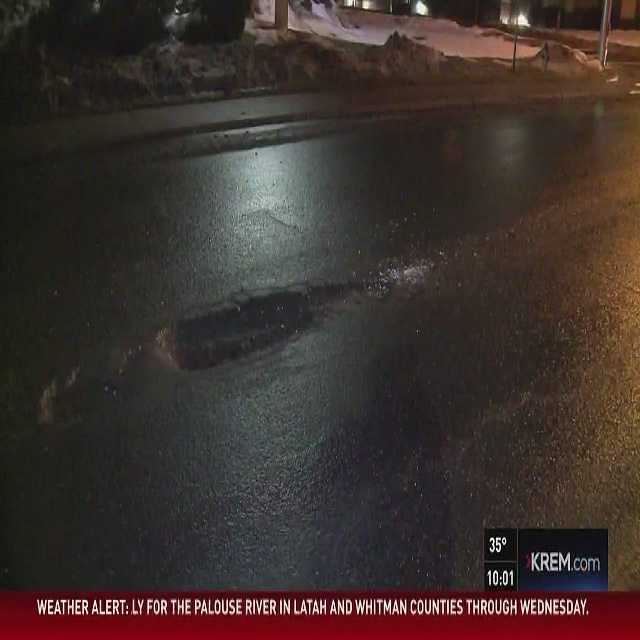pothole: (155, 276, 389, 371), (38, 364, 120, 429)
